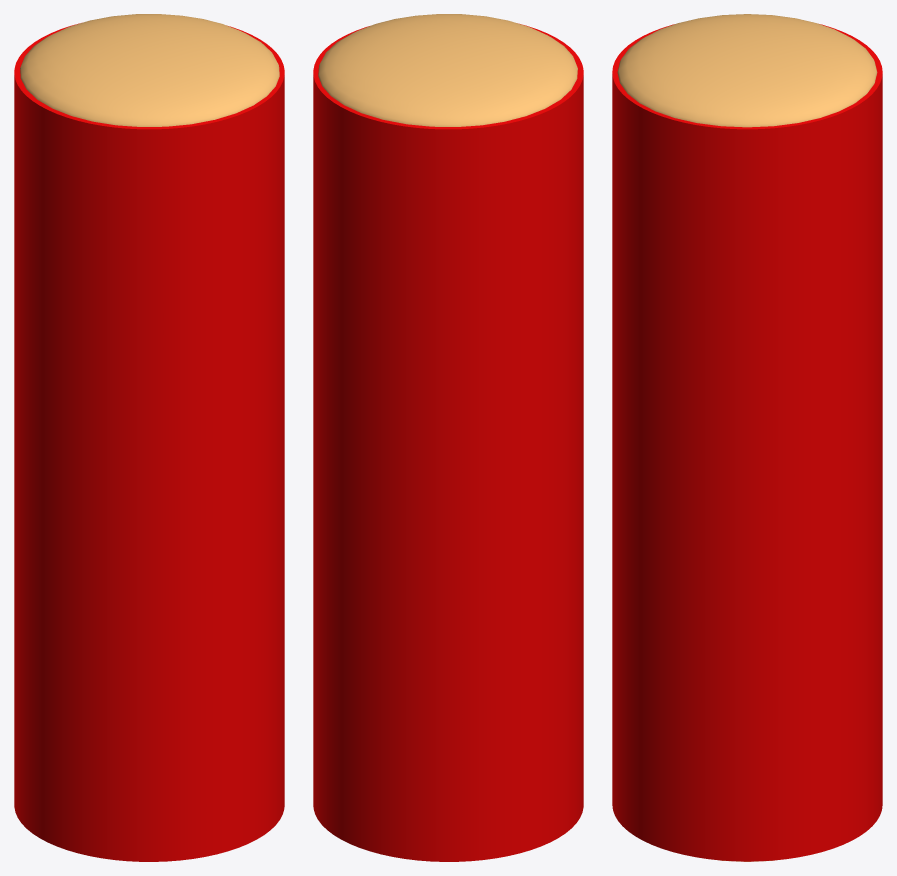
The model's file is Firecracker.fbx.
The picture shows the model from 3 angles, left to right: view 1: azimuth 30°, elevation 25°; view 2: azimuth 150°, elevation 25°; view 3: azimuth 270°, elevation 25°; orthographic projection.
Parts seen in each view (by area): view 1: Cylinder, Sphere; view 2: Cylinder, Sphere; view 3: Cylinder, Sphere.
Part boxes in pixels (x1,y1,x2,y2): Cylinder: (14,23,284,861); Sphere: (20,14,279,126); Cylinder: (313,23,583,861); Sphere: (318,14,577,126); Cylinder: (612,24,882,861); Sphere: (617,14,877,127).
Bounding box in the file's own units: 120 × 380 × 120.
